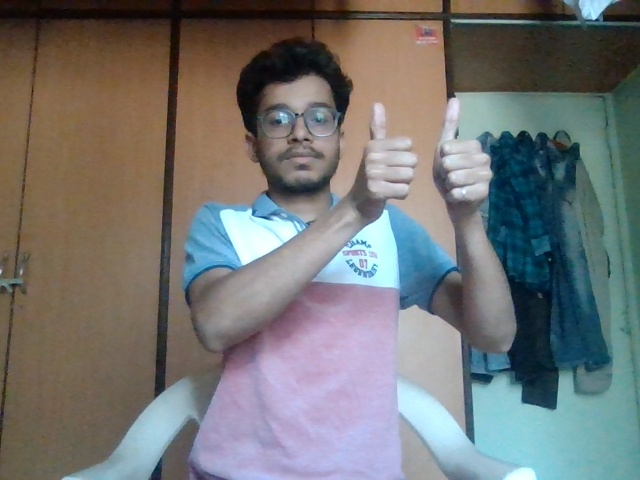thank-you: (358, 96, 507, 222)
